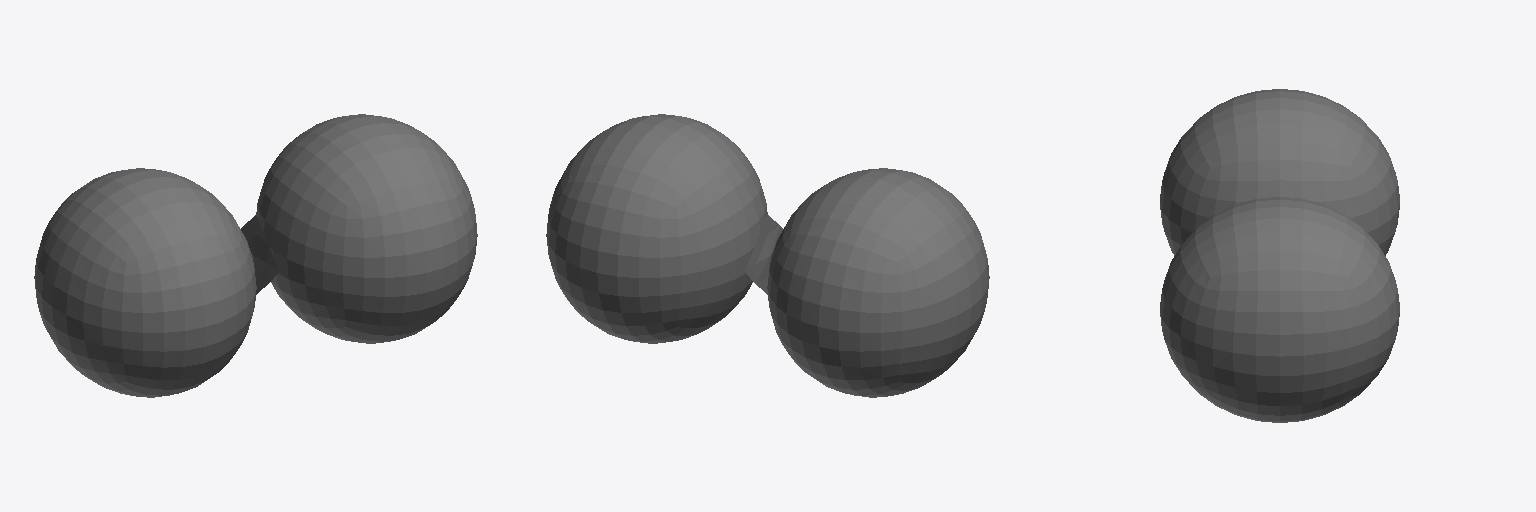
File: LowPoly_Guarda_Olhos.obj
3 renders of one model, left to right at view 1: azimuth 30°, elevation 25°; view 2: azimuth 150°, elevation 25°; view 3: azimuth 270°, elevation 25°, orthographic.
Visible parts, largest first — view 1: LowPoly_Guarda_Olhos; view 2: LowPoly_Guarda_Olhos; view 3: LowPoly_Guarda_Olhos.
Boxes of the visible parts, box(x1,y1,x2,y2) form: LowPoly_Guarda_Olhos: box(34, 114, 477, 397); LowPoly_Guarda_Olhos: box(546, 114, 989, 397); LowPoly_Guarda_Olhos: box(1160, 89, 1399, 422).
Size of the model in its own units: 10.74 by 5.22 by 5.49.